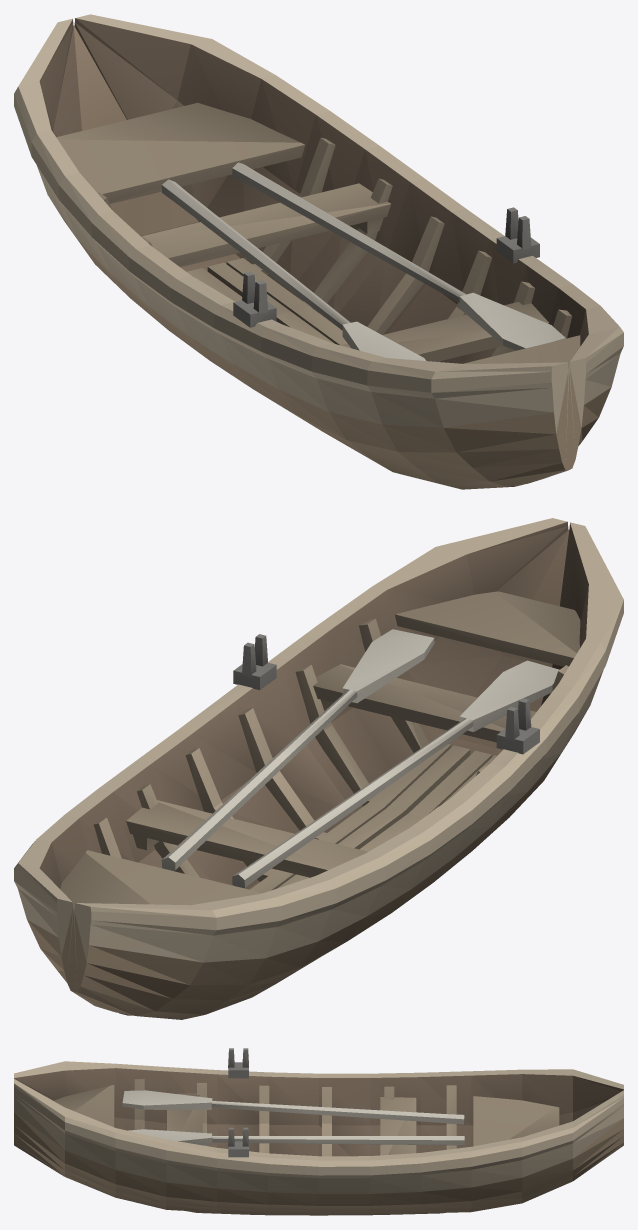
The model's file is rowboat.glb.
3 views of the same model, one above another, from view 1: azimuth 30°, elevation 25°; view 2: azimuth 150°, elevation 25°; view 3: azimuth 270°, elevation 25° (orthographic). The views are drawn at different scales.
Parts seen in each view (by area): view 1: rowboat; view 2: rowboat; view 3: rowboat.
Part boxes in pixels (bbox=[...]): rowboat: bbox=[14, 14, 623, 489]; rowboat: bbox=[14, 518, 623, 1019]; rowboat: bbox=[14, 1048, 623, 1215].
Bounding box in the file's own units: 1.44 × 0.9816 × 4.08.
